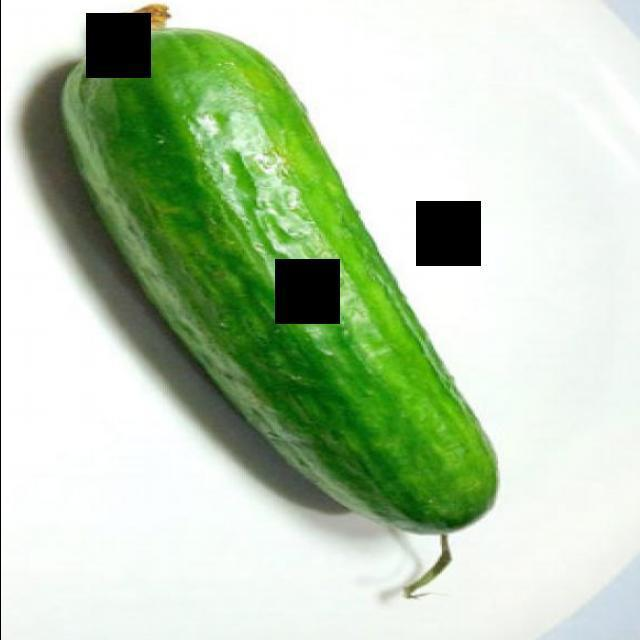cucumber: (51, 26, 508, 538)
